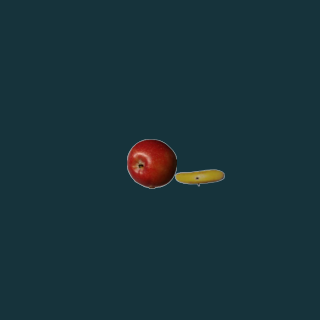Apple Braeburn: (126, 138, 176, 188)
Banana: (174, 152, 224, 202)
